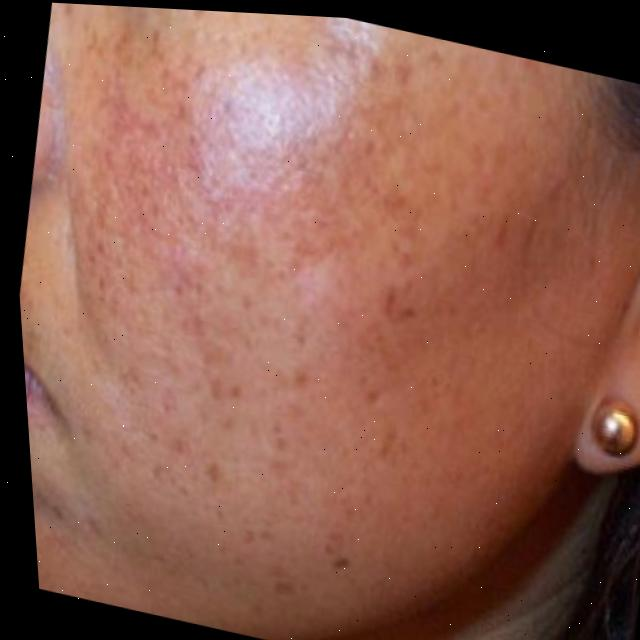Melasma: (19, 1, 619, 506)
